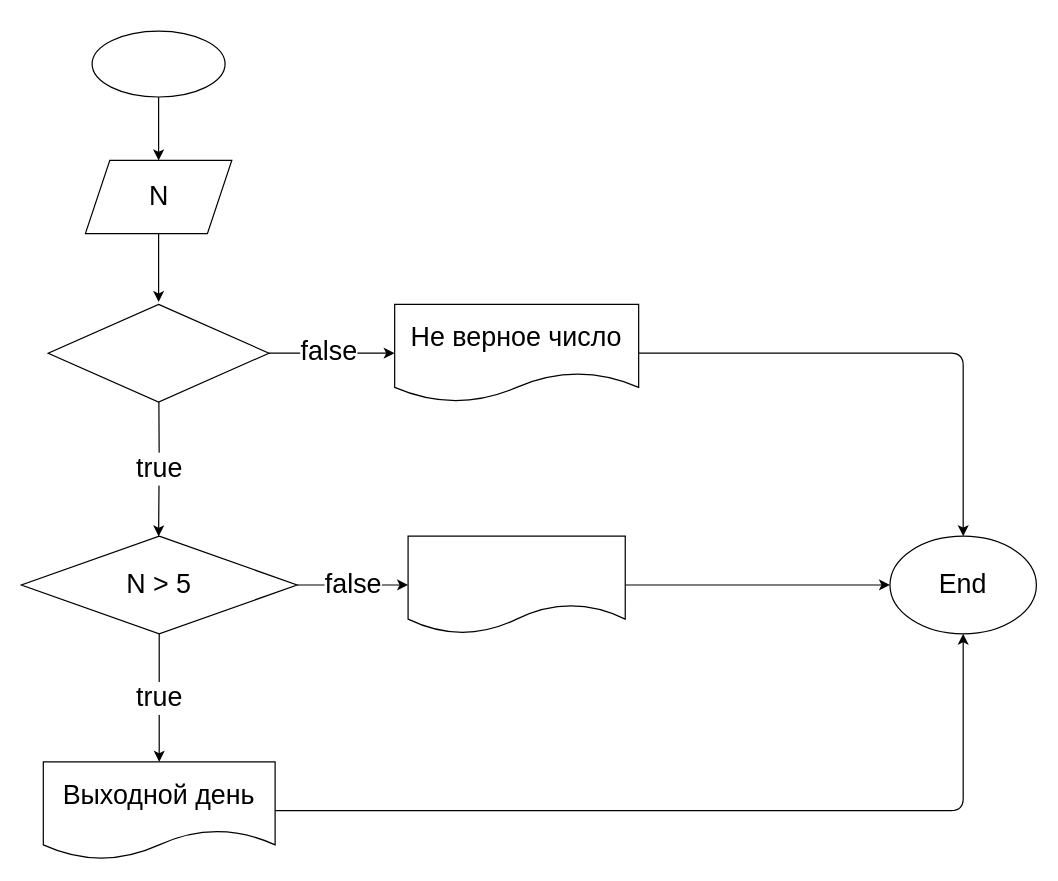
Image size: 1058x881. Some labels were removed from this diagram. The shapes that lost their labels are listed below. From the top down, each one's centre as x and y in pixels, then its label:
pixel 158 63: start
pixel 158 352: 1<= N < = 7
pixel 516 584: Рабочий день
